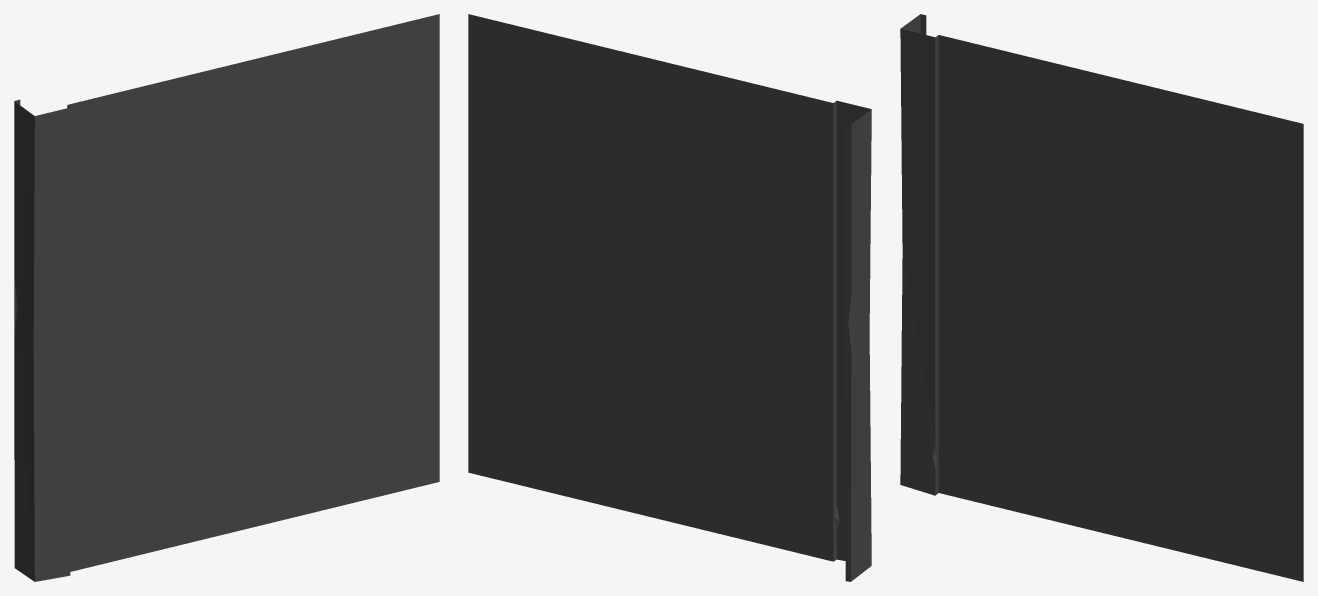
The model's file is House01_Wall_01_Pillar.fbx.
3 renders of one model, left to right at view 1: azimuth 30°, elevation 25°; view 2: azimuth 150°, elevation 25°; view 3: azimuth 330°, elevation 25°, orthographic. The views are drawn at different scales.
Parts seen in each view (by area): view 1: SM_Bld_House_ExteriorWall_UpperFloor_01.001; view 2: SM_Bld_House_ExteriorWall_UpperFloor_01.001; view 3: SM_Bld_House_ExteriorWall_UpperFloor_01.001.
Boxes of the visible parts, left/top/right/bottom form: SM_Bld_House_ExteriorWall_UpperFloor_01.001: left=14, top=14, right=439, bottom=581; SM_Bld_House_ExteriorWall_UpperFloor_01.001: left=468, top=14, right=871, bottom=581; SM_Bld_House_ExteriorWall_UpperFloor_01.001: left=900, top=14, right=1303, bottom=581.
Bounding box in the file's own units: 274 × 300 × 24.1.
